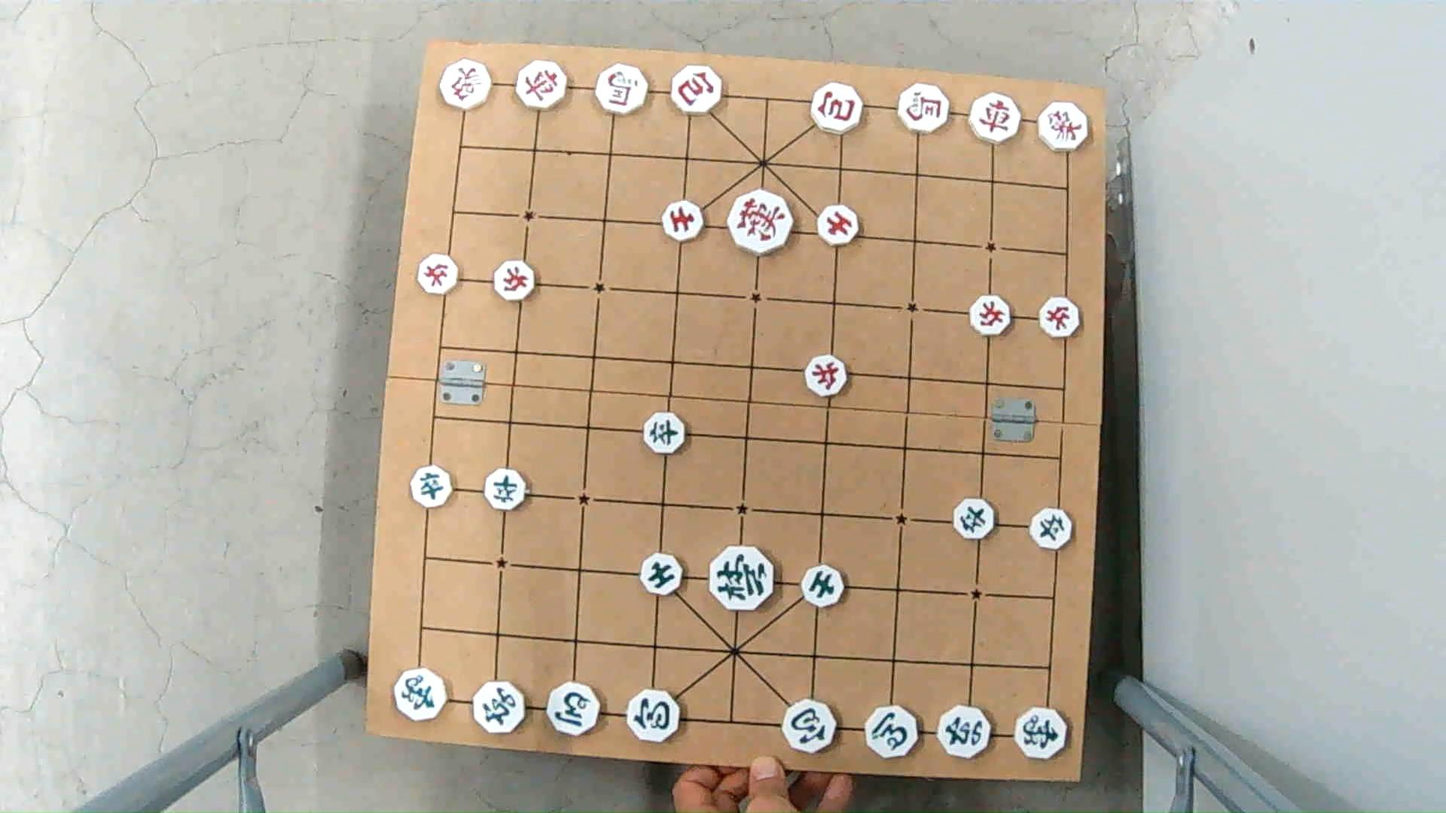cha_green: (474, 684, 530, 733), (935, 707, 991, 756)
cha_red: (517, 63, 574, 109), (966, 96, 1022, 142)
jol_green: (640, 415, 687, 455), (482, 471, 529, 510), (407, 468, 453, 507), (951, 501, 996, 540), (1027, 511, 1072, 548)
jol_red: (803, 358, 851, 394), (491, 262, 537, 299), (415, 256, 461, 293), (971, 297, 1015, 335), (1036, 300, 1080, 336)
ma_green: (541, 687, 599, 735), (862, 708, 917, 757)
ma_red: (596, 68, 654, 114), (898, 84, 953, 131)
po_green: (782, 702, 840, 751), (627, 692, 683, 741)
po_red: (670, 69, 728, 114), (806, 86, 862, 132)
sa_green: (800, 565, 848, 606), (637, 553, 686, 592)
sa_red: (813, 206, 861, 248), (658, 201, 706, 238)
sang_green: (1013, 708, 1069, 757), (392, 668, 447, 717)
sang_red: (439, 62, 491, 108), (1037, 105, 1088, 151)
wang_green: (706, 551, 776, 610)
wang_red: (728, 190, 796, 253)
